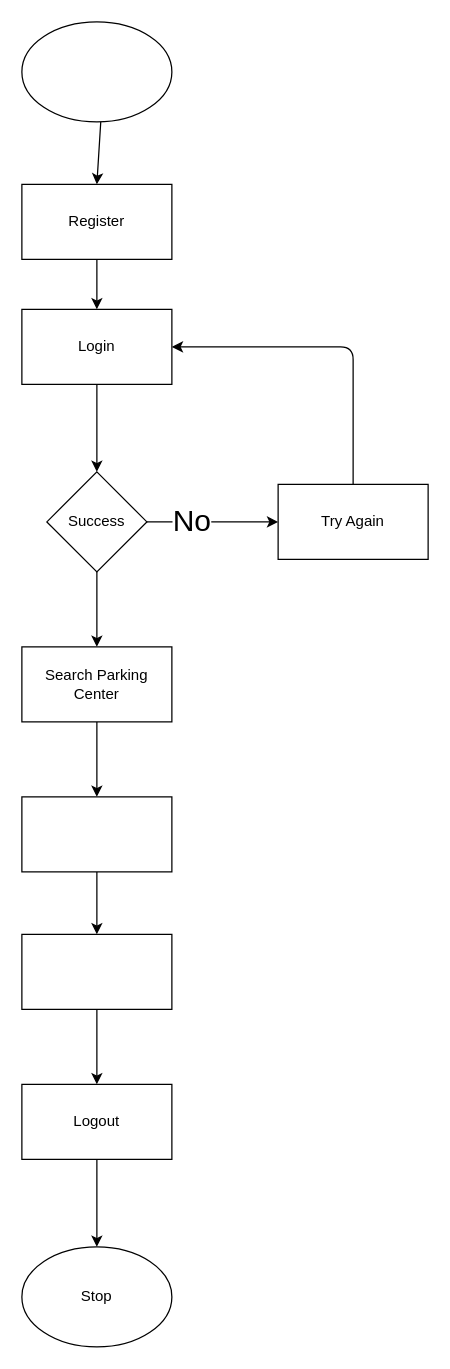
Image size: 450x1369. Some labels were removed from this diagram. Here are the shapes that lost their labels. From the top down, the centre of each, then its label:
the point at 96,71: Start
the point at 96,834: Resrve Parking Slot
the point at 96,971: give feedback
